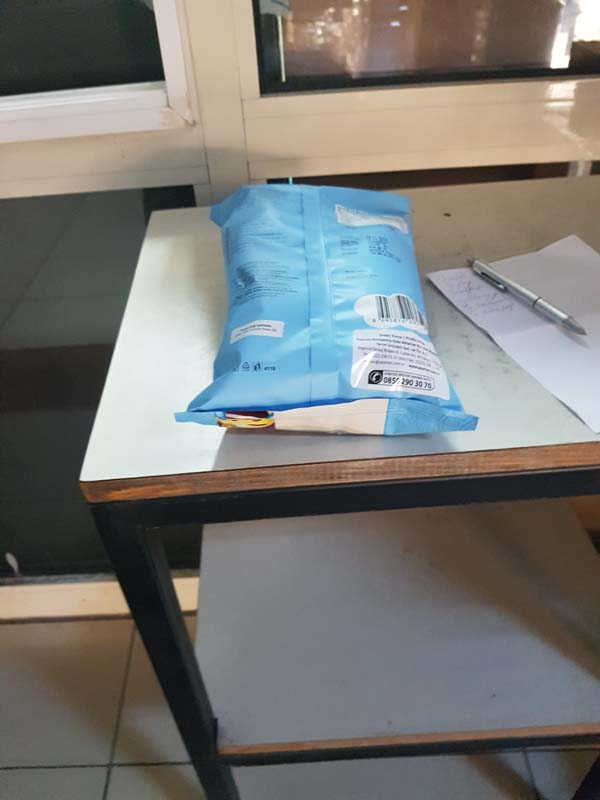popcorn: (201, 185, 489, 455)
